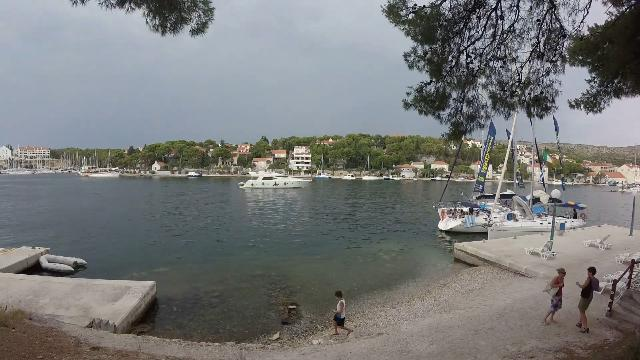ferry: (234, 164, 318, 190)
